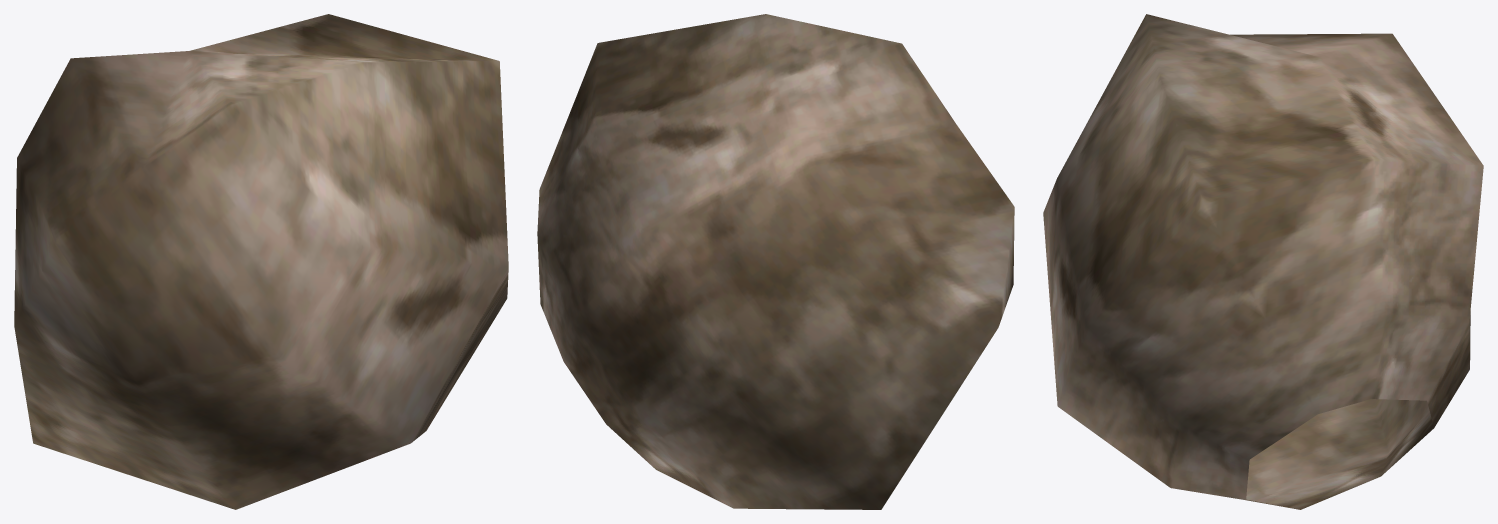
The model's file is OVERHILL_A_01_ROCK54.fbx.
3 views of the same model, side by side, from view 1: azimuth 30°, elevation 25°; view 2: azimuth 150°, elevation 25°; view 3: azimuth 270°, elevation 25° (orthographic). The views are drawn at different scales.
Parts seen in each view (by area): view 1: OVERHILL_A_01_ROCK54; view 2: OVERHILL_A_01_ROCK54; view 3: OVERHILL_A_01_ROCK54.
Part boxes in pixels (bbox=[...]): OVERHILL_A_01_ROCK54: bbox=[14, 14, 508, 509]; OVERHILL_A_01_ROCK54: bbox=[537, 14, 1014, 509]; OVERHILL_A_01_ROCK54: bbox=[1043, 14, 1483, 509].
Size of the model in its own units: 8950 by 7960 by 7282.
Materials: 1 (1 with a texture image).
